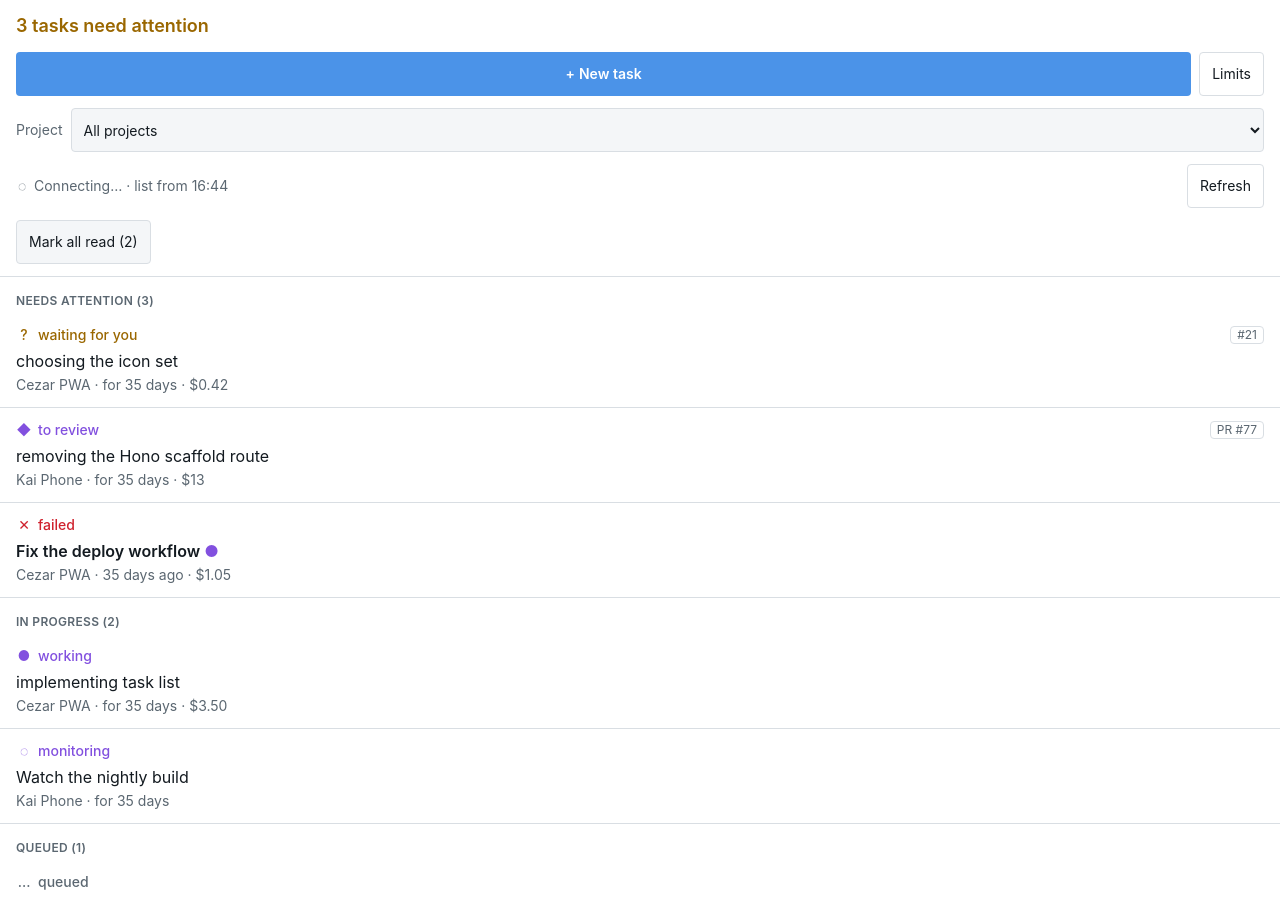
Scenario: project filter (FR-013) › says so when the chosen project has no tasks
The width and height of the screenshot is (1280, 899).
Select "Notatki" in the dropdown: [667, 130] box [70, 108, 1264, 152]
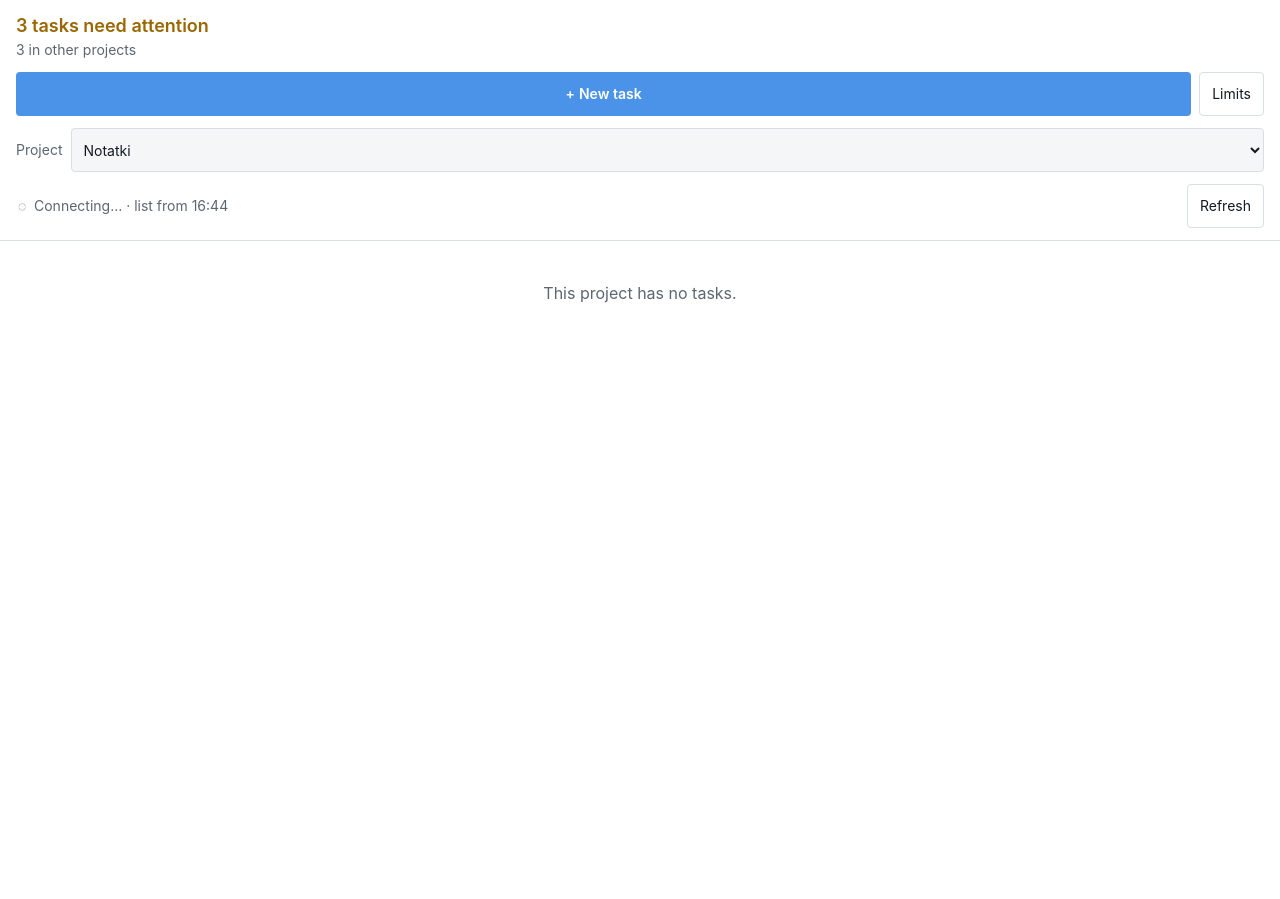
Check: the text "This project has no tasks." is shown, box [543, 283, 737, 303]
